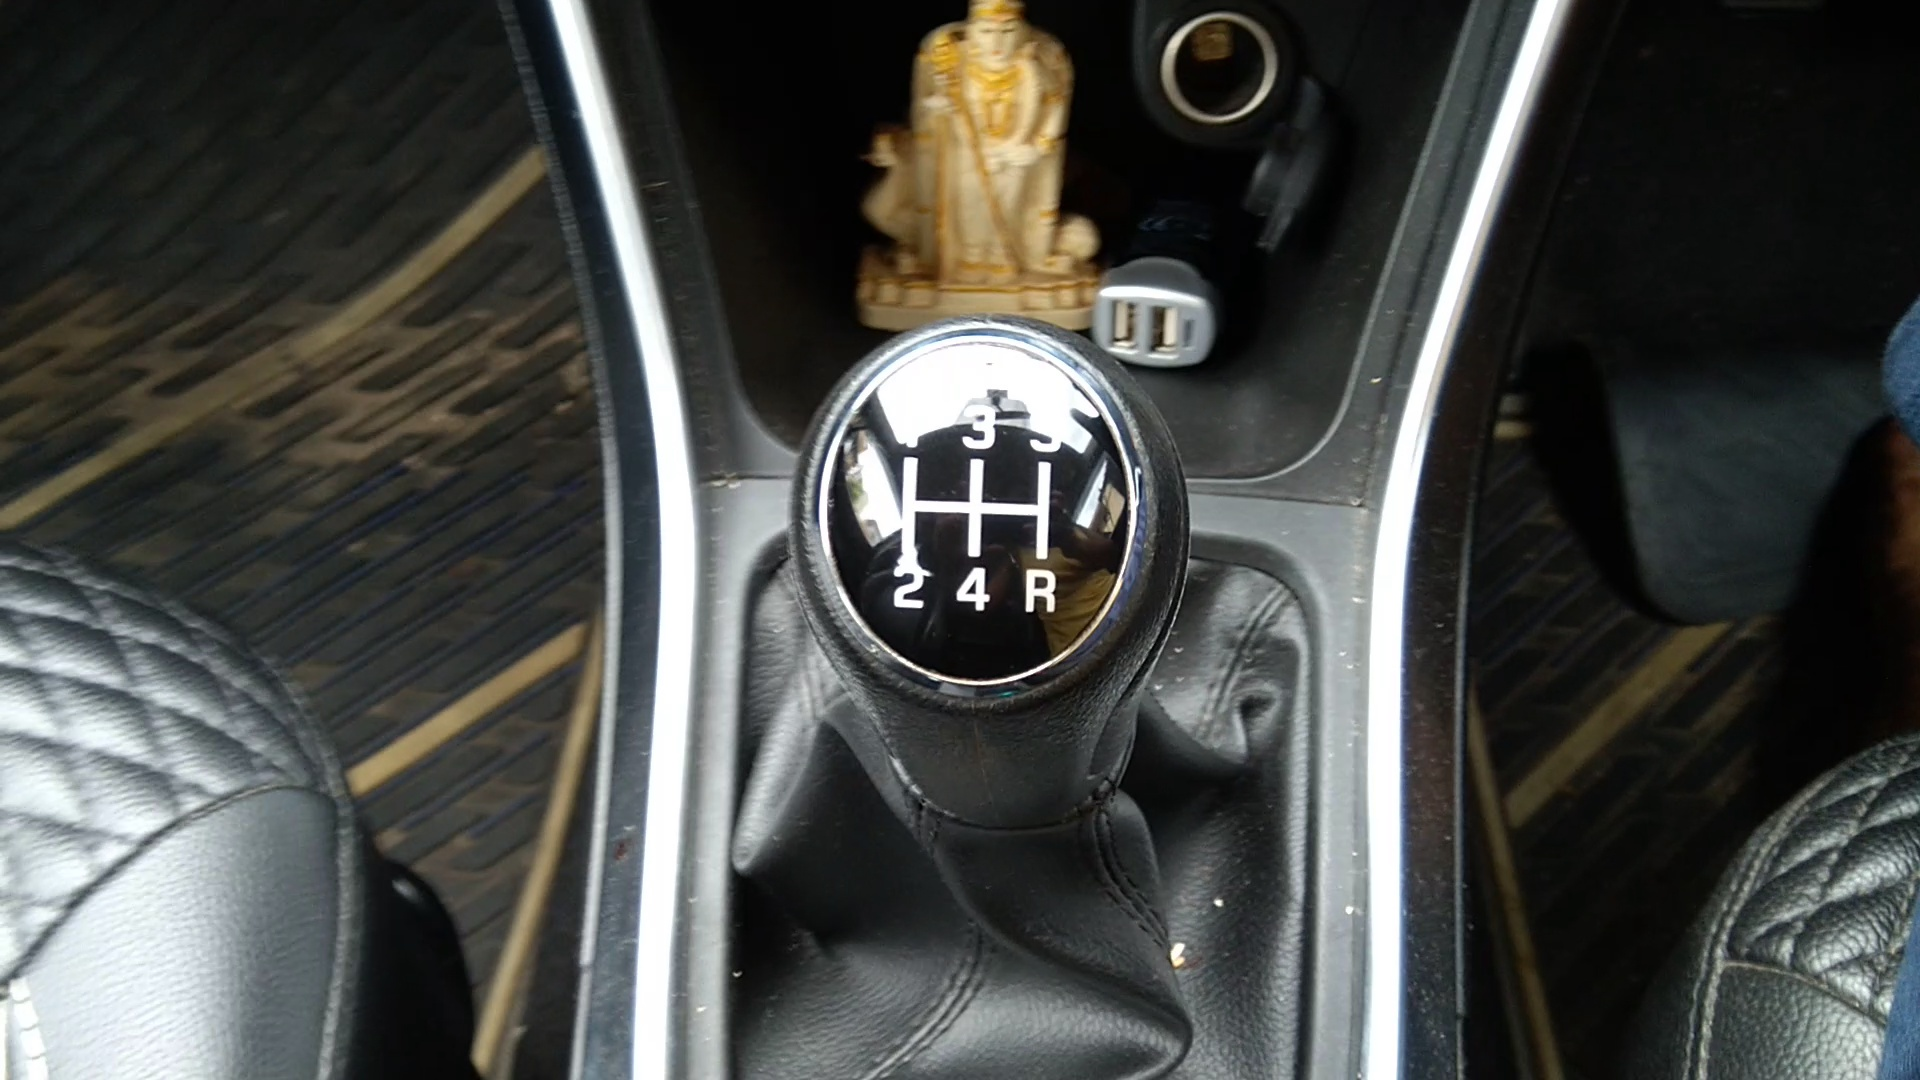manual_gear: (775, 310, 1199, 902)
